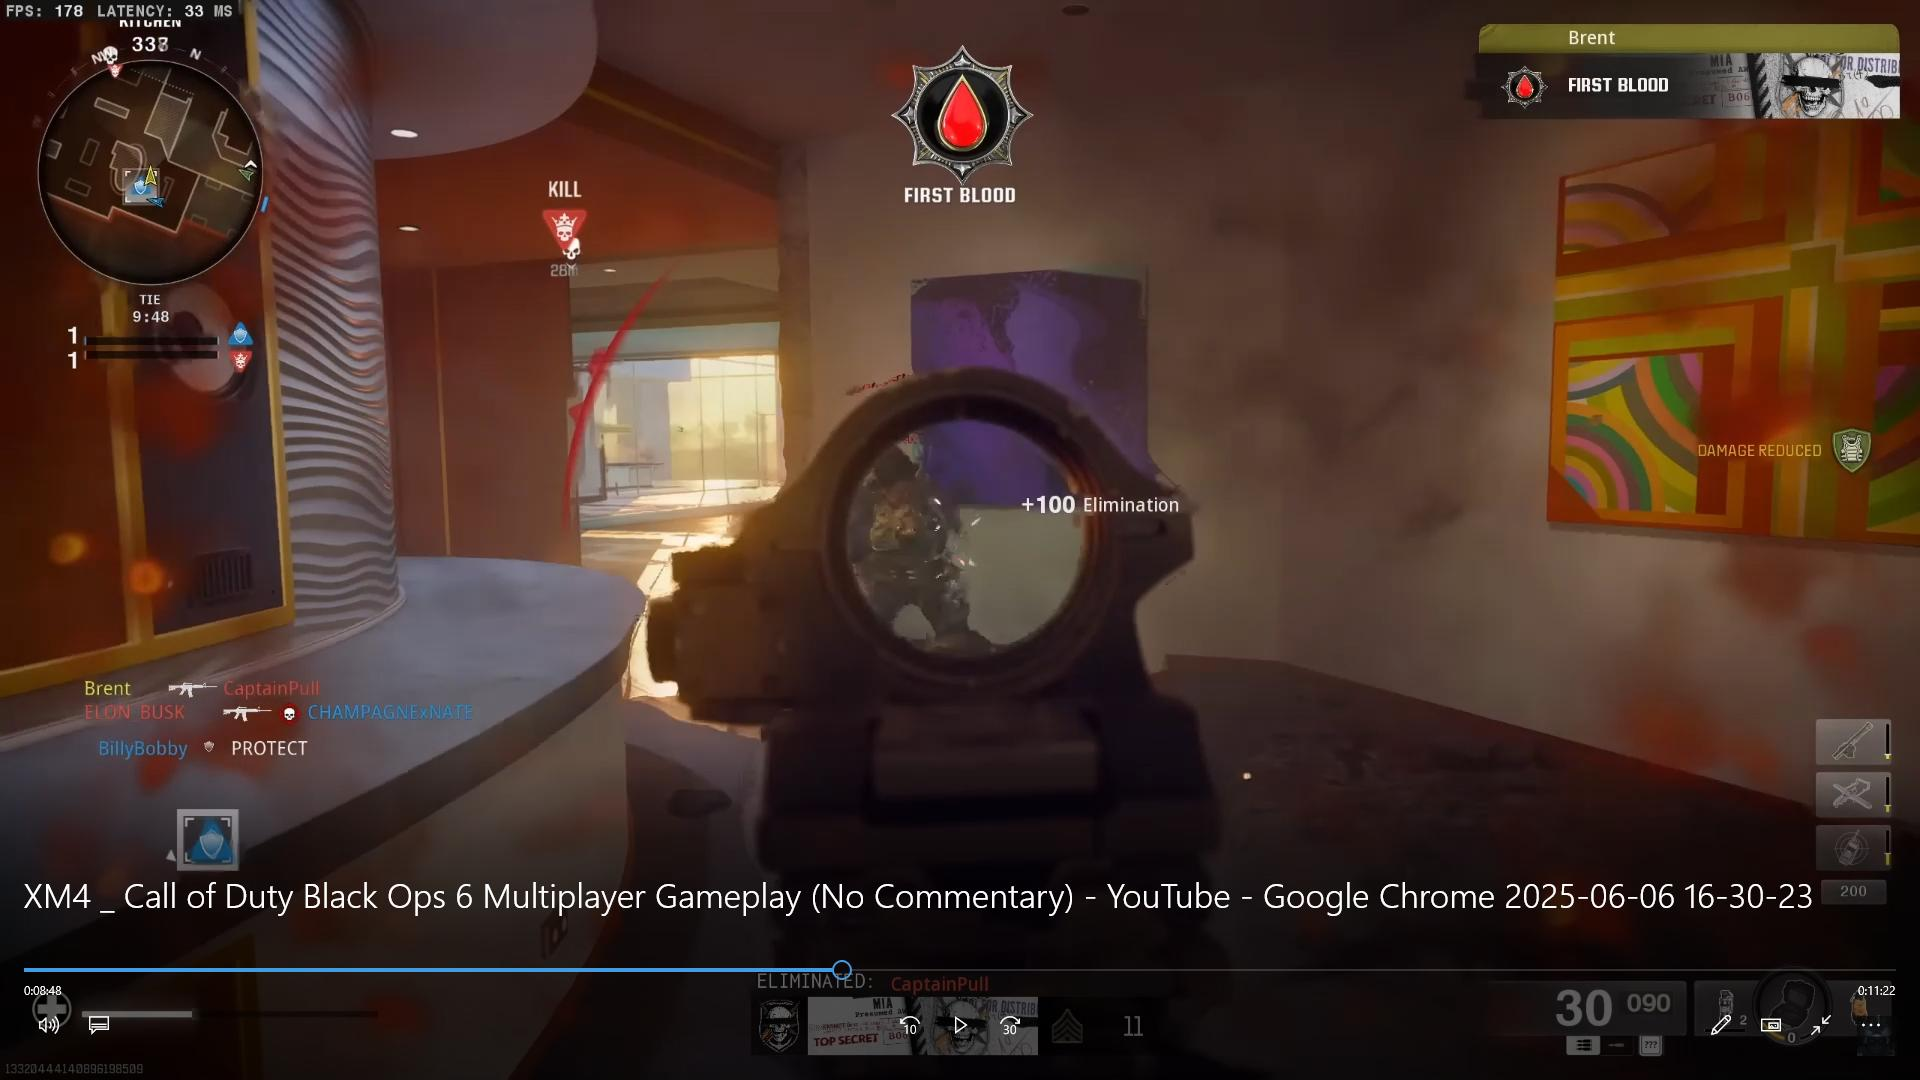Enemy: (862, 452, 981, 630)
